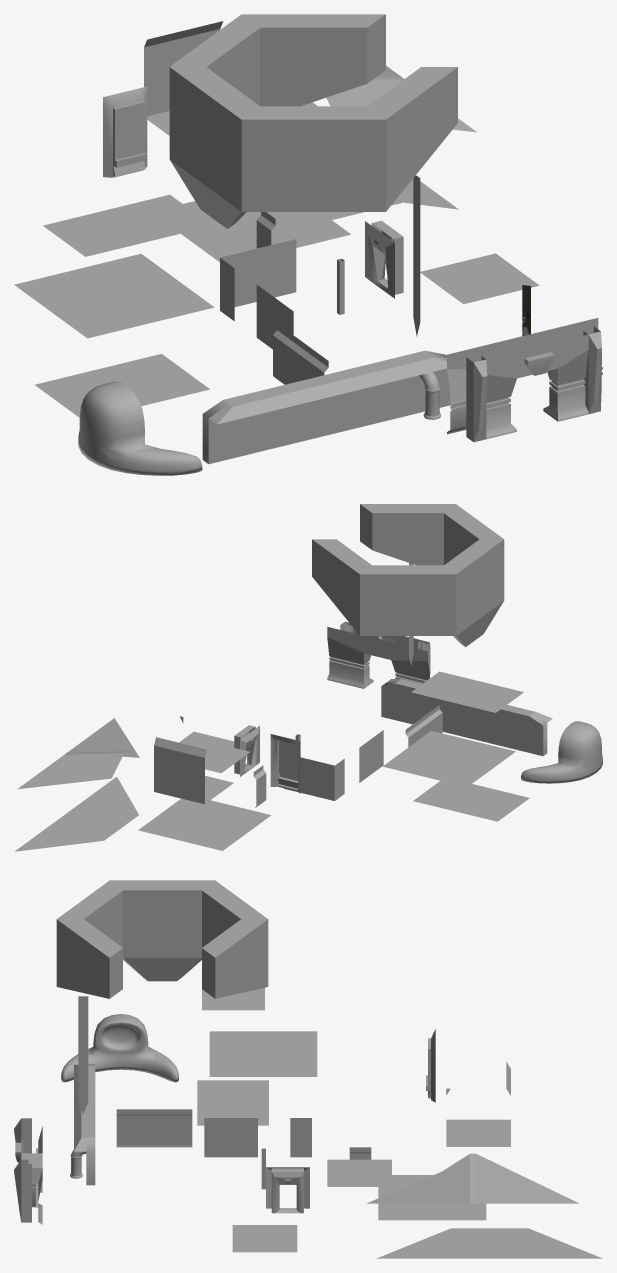
Rendered from subme.fbx.
3 renders of one model, top to bottom at view 1: azimuth 30°, elevation 25°; view 2: azimuth 150°, elevation 25°; view 3: azimuth 270°, elevation 25°, orthographic. The views are drawn at different scales.
Parts seen in each view (by area): view 1: adorment, pCube60, Big_Gates14, cealing116, coisa1, romrom5, Big_Floor_Corridor52, floor407, Wall_Corridor183, cell_corridor_fundo5, Corridor_Floor121, Wall_Corridor182 (+8 smaller); view 2: adorment, pCube60, Big_Gates14, cealing116, floor407, Big_Floor_CorridorOpener3, Top_corridorJoint3, coisa1, Wall_Corridor182, Big_Floor_Corridor52, romrom5, Wall_Corridor183 (+5 smaller); view 3: adorment, Top_corridorJoint3, cealing116, Big_Floor_CorridorOpener3, coisa1, cell_room_wallback140, Big_Floor_Corridor52, floor407, Big_Gates14, cell_corridor29, pCube60, Corridor_Floor121 (+7 smaller).
Boxes of the visible parts, box(x1,y1,x2,y2) form: adorment: box(169, 14, 457, 228); pCube60: box(202, 350, 451, 464); Big_Gates14: box(447, 318, 602, 442); cealing116: box(14, 254, 214, 338); coisa1: box(78, 381, 202, 475); romrom5: box(43, 194, 212, 256); Big_Floor_Corridor52: box(34, 354, 209, 417); floor407: box(181, 201, 350, 262); Wall_Corridor183: box(103, 86, 147, 177); cell_corridor_fundo5: box(220, 239, 296, 306); Corridor_Floor121: box(420, 253, 539, 304); Wall_Corridor182: box(144, 21, 223, 116); adorment: box(312, 504, 504, 647); pCube60: box(381, 679, 552, 756); Big_Gates14: box(327, 621, 430, 688); cealing116: box(383, 731, 515, 786); floor407: box(138, 798, 271, 850); Big_Floor_CorridorOpener3: box(14, 777, 138, 851); Top_corridorJoint3: box(17, 718, 139, 789); coisa1: box(521, 721, 602, 783); Wall_Corridor182: box(154, 737, 206, 804); Big_Floor_Corridor52: box(413, 781, 529, 821); romrom5: box(411, 671, 523, 712); Wall_Corridor183: box(270, 734, 300, 793); adorment: box(56, 880, 268, 998); Top_corridorJoint3: box(366, 1153, 579, 1203); cealing116: box(209, 1031, 317, 1076); Big_Floor_CorridorOpener3: box(376, 1228, 602, 1258); coisa1: box(61, 1014, 178, 1082); cell_room_wallback140: box(116, 1109, 192, 1147); Big_Floor_Corridor52: box(197, 1080, 268, 1125); floor407: box(378, 1175, 486, 1220); Big_Gates14: box(14, 1118, 42, 1224); cell_corridor29: box(204, 1118, 257, 1157); pCube60: box(74, 1064, 95, 1185); Corridor_Floor121: box(232, 1225, 297, 1252).
Size of the model in its own units: 21.75 by 11.99 by 27.17.
